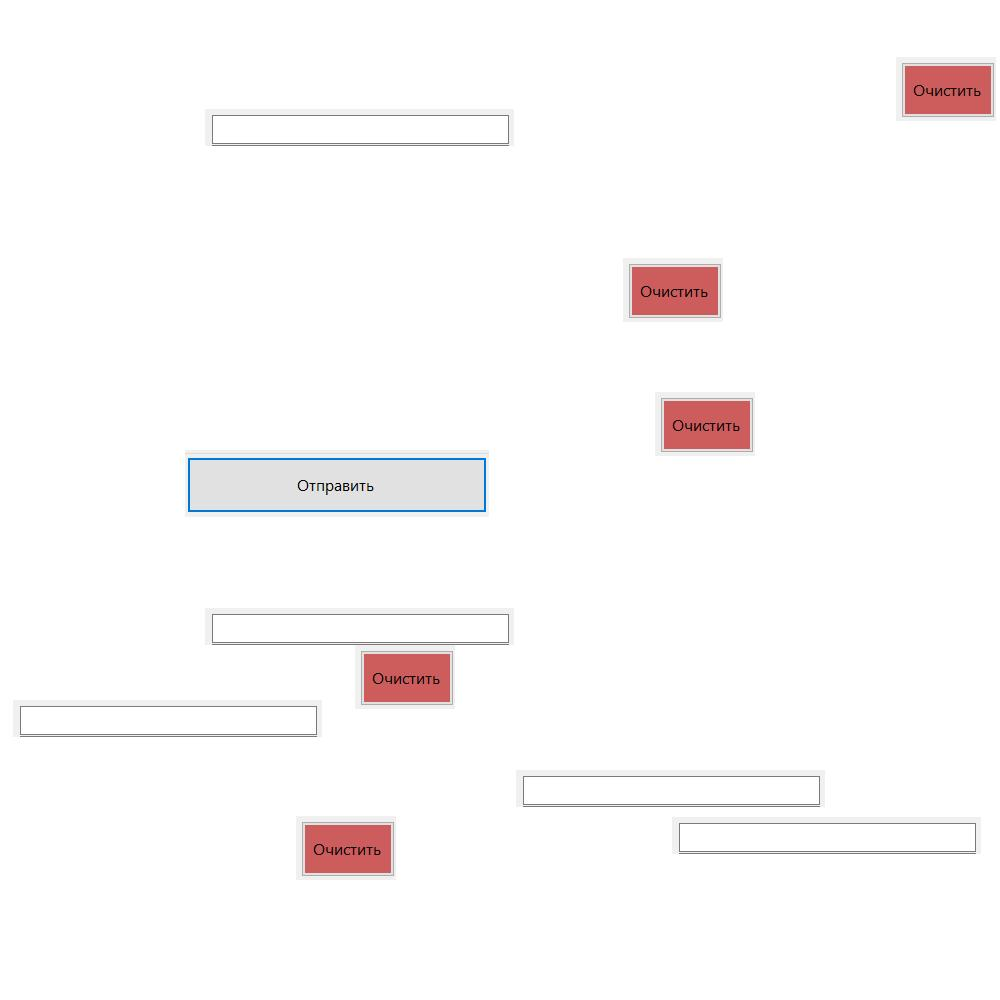Button: (185, 450, 489, 517), (355, 645, 455, 709), (655, 392, 755, 456), (623, 258, 723, 322), (896, 57, 996, 121), (296, 816, 396, 880)
EditText-: (672, 817, 981, 854), (205, 608, 514, 645), (516, 770, 825, 807), (205, 109, 514, 146), (13, 700, 322, 737)
